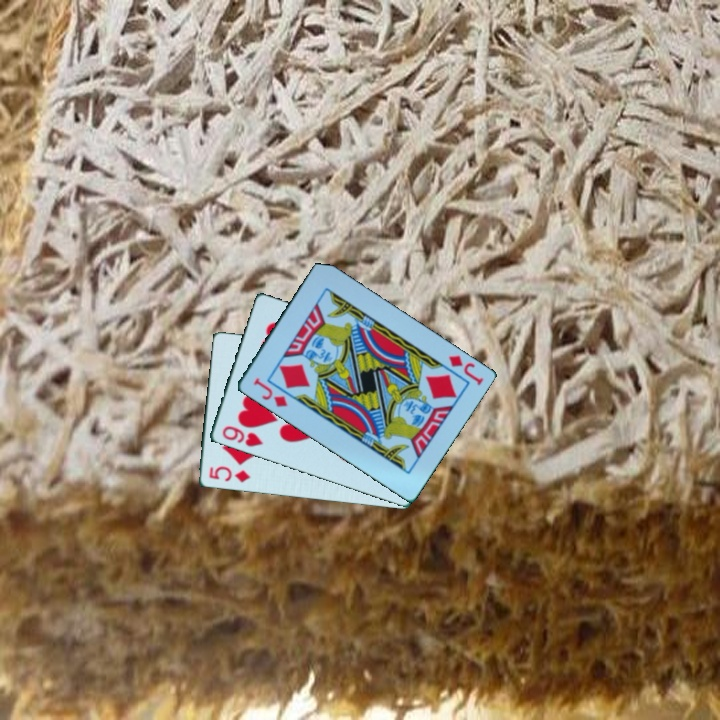5d: (205, 463, 253, 486)
9h: (218, 422, 266, 450)
Jd: (444, 351, 486, 389), (249, 374, 290, 410)
